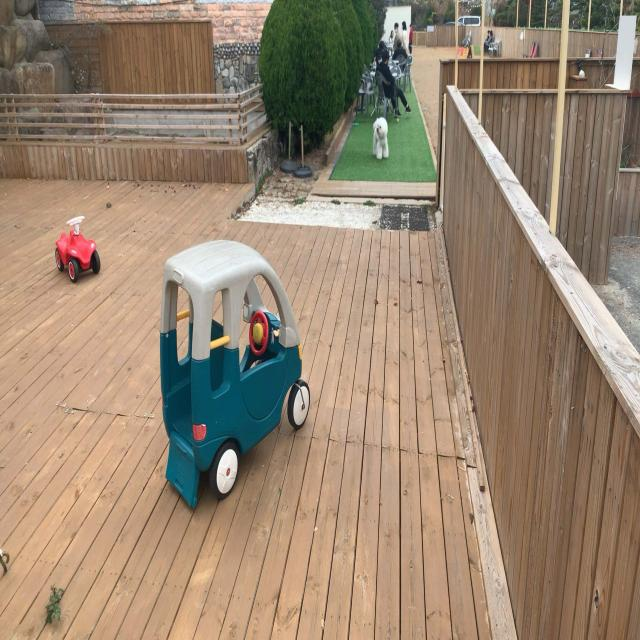Dog: (372, 116, 388, 160)
